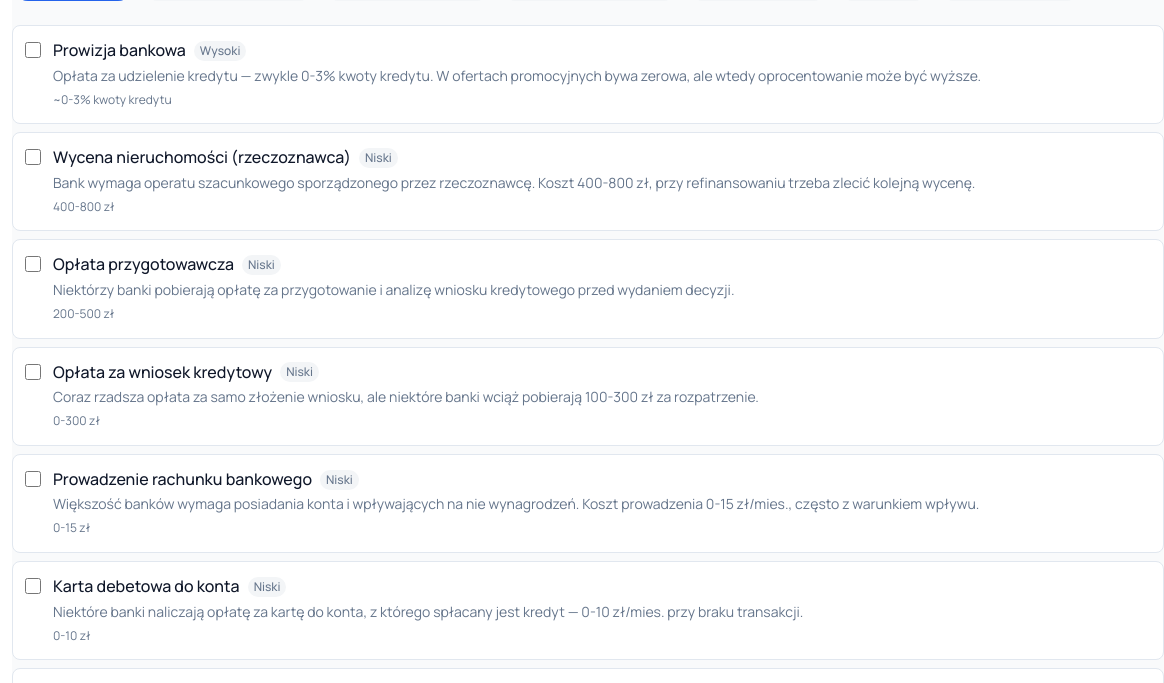
Test: HiddenCostChecklist › shows total simulation when items are selected
Step 1. Click the 1st checkbox → [33, 50], box left=25, top=42, right=41, bottom=58
(page scrolled)
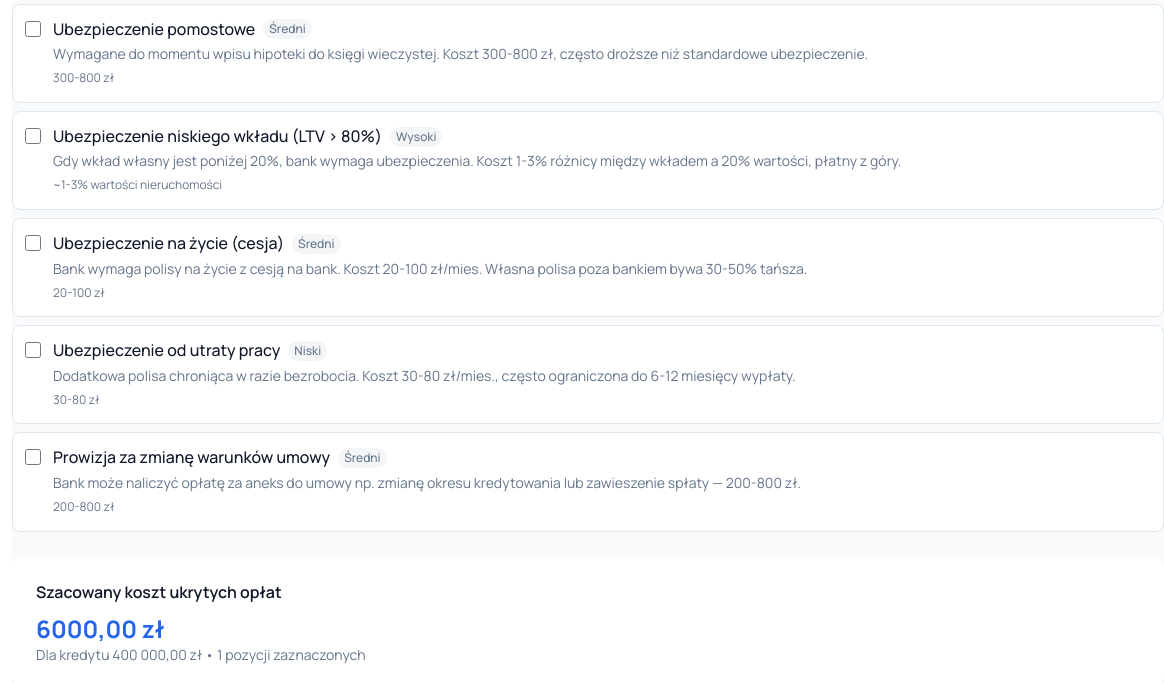
Result: the heading "Szacowany koszt ukrytych opłat" is shown at left=36, top=580, right=282, bottom=602
